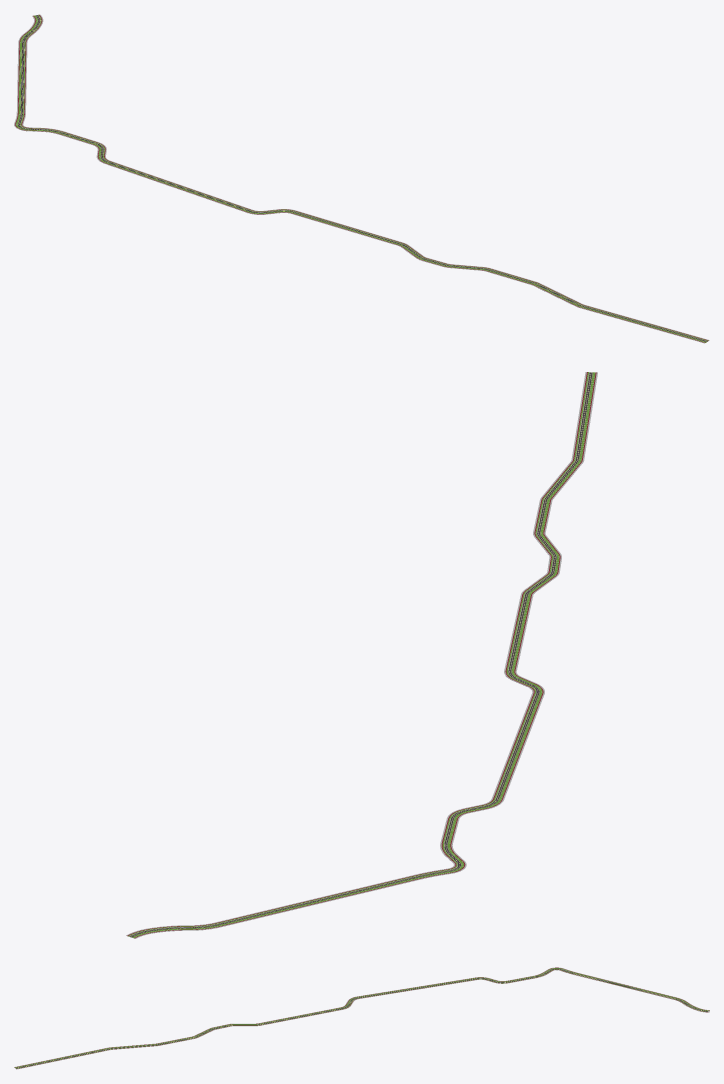
The model's file is RAEBP-SkylineAve-rev001.glb.
3 renders of one model, top to bottom at view 1: azimuth 30°, elevation 25°; view 2: azimuth 150°, elevation 25°; view 3: azimuth 270°, elevation 25°, orthographic. The views are drawn at different scales.
Visible parts, largest first — view 1: 3DGeom-24, 3DGeom-18, 3DGeom-3, 3DGeom-22, 3DGeom-7, 3DGeom-4, 3DGeom-8, 3DGeom-12, 3DGeom-20; view 2: 3DGeom-24, 3DGeom-3, 3DGeom-22, 3DGeom-18, 3DGeom-4, 3DGeom-7, 3DGeom-8, 3DGeom-20, 3DGeom-12; view 3: 3DGeom-18, 3DGeom-3, 3DGeom-22, 3DGeom-4, 3DGeom-24, 3DGeom-7, 3DGeom-8, 3DGeom-12, 3DGeom-20.
Boxes of the visible parts, x1=… form: 3DGeom-24: x1=14, y1=16, x2=704, y2=343; 3DGeom-18: x1=22, y1=14, x2=709, y2=340; 3DGeom-3: x1=18, y1=15, x2=707, y2=341; 3DGeom-22: x1=19, y1=15, x2=707, y2=341; 3DGeom-7: x1=20, y1=15, x2=708, y2=340; 3DGeom-4: x1=16, y1=15, x2=705, y2=342; 3DGeom-8: x1=17, y1=15, x2=706, y2=342; 3DGeom-12: x1=21, y1=14, x2=708, y2=340; 3DGeom-20: x1=15, y1=15, x2=705, y2=342; 3DGeom-24: x1=135, y1=372, x2=597, y2=938; 3DGeom-3: x1=130, y1=372, x2=592, y2=937; 3DGeom-22: x1=129, y1=372, x2=590, y2=936; 3DGeom-18: x1=126, y1=372, x2=586, y2=935; 3DGeom-4: x1=133, y1=372, x2=595, y2=937; 3DGeom-7: x1=128, y1=372, x2=589, y2=936; 3DGeom-8: x1=132, y1=372, x2=593, y2=937; 3DGeom-20: x1=134, y1=372, x2=596, y2=938; 3DGeom-12: x1=127, y1=372, x2=587, y2=936; 3DGeom-18: x1=17, y1=970, x2=708, y2=1069; 3DGeom-3: x1=15, y1=968, x2=707, y2=1068; 3DGeom-22: x1=16, y1=969, x2=707, y2=1068; 3DGeom-4: x1=15, y1=968, x2=709, y2=1067; 3DGeom-24: x1=14, y1=967, x2=709, y2=1067; 3DGeom-7: x1=16, y1=969, x2=707, y2=1068; 3DGeom-8: x1=15, y1=968, x2=708, y2=1067; 3DGeom-12: x1=16, y1=969, x2=707, y2=1069; 3DGeom-20: x1=14, y1=967, x2=709, y2=1067.
Bounding box in the file's own units: 922 × 0.25 × 2657.
Materials: 6 (5 with a texture image).
